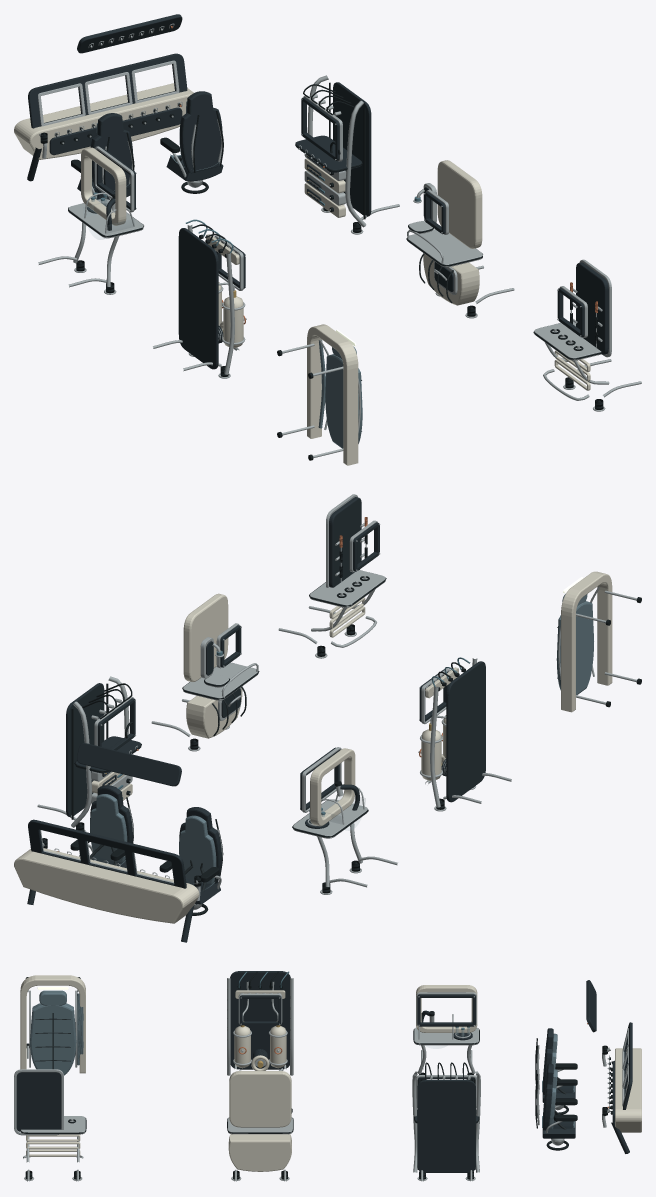
File: mission-workstations-balanced.glb
The picture shows the model from 3 angles, top to bottom: view 1: azimuth 30°, elevation 25°; view 2: azimuth 150°, elevation 25°; view 3: azimuth 270°, elevation 25°; orthographic projection. The views are drawn at different scales.
Visible parts, largest first — view 1: batched static cabin fittings (×5); view 2: batched static cabin fittings (×5); view 3: batched static cabin fittings (×6).
Part boxes in pixels (x1,y1,x2,y2): batched static cabin fittings (×5): [14, 14, 641, 465]; batched static cabin fittings (×5): [14, 494, 641, 942]; batched static cabin fittings (×6): [14, 971, 641, 1181].
Bounding box in the file's own units: 5.94 × 2.78 × 11.97.
